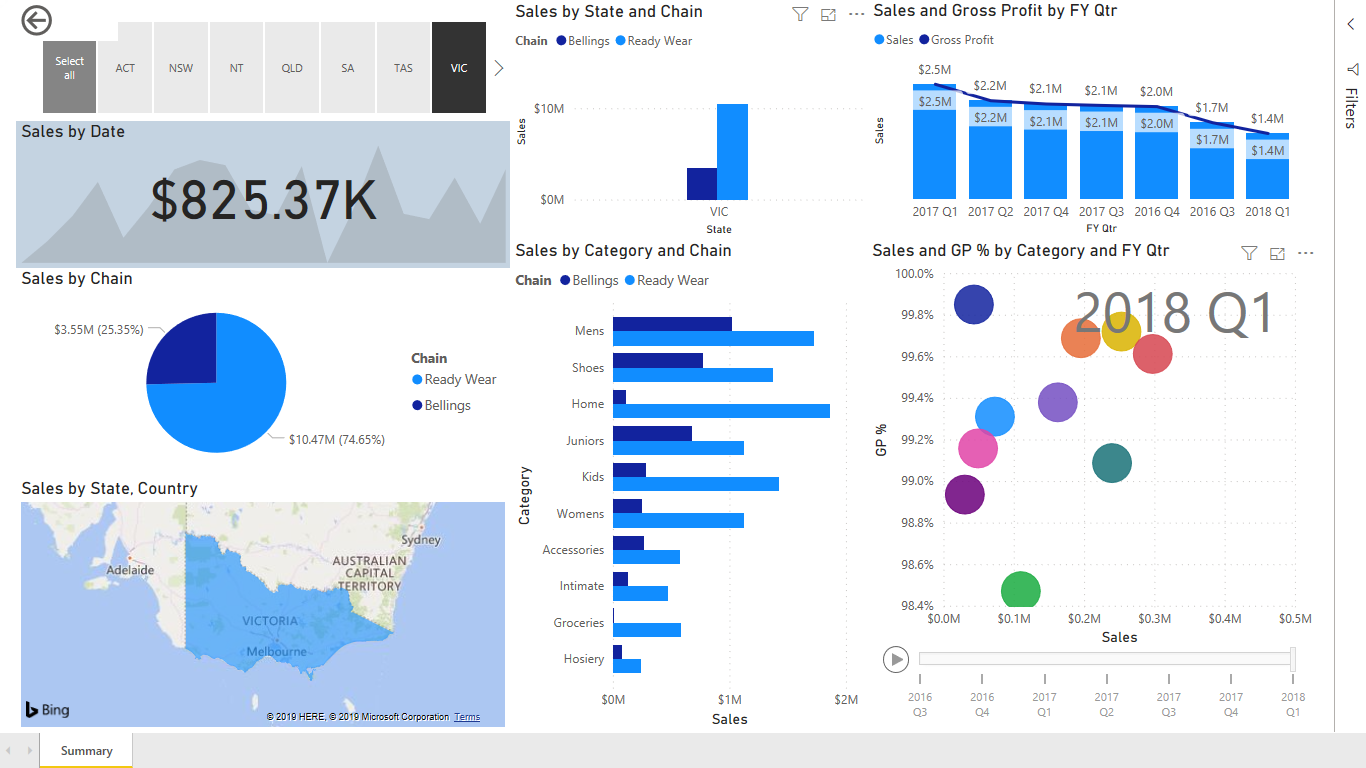

What the dashboard file says about the page in this screenshot:
{"tool":"powerbi","page":{"name":"Summary","canvas":[1280,720],"ordinal":0},"visuals":[{"type":"kpi","fields":{"Indicator":["Sum(Sales.Sales)"],"TrendLine":["Dates.Date"]},"box":[0,118.9,486.3,144.5],"z":0},{"type":"clusteredColumnChart","fields":{"Y":["Sum(Sales.Sales)"],"Category":["Regions.State"],"Series":["Sales.Chain"]},"box":[486.3,1.4,352.6,235],"z":1},{"type":"lineClusteredColumnComboChart","fields":{"Category":["Dates.FY Qtr"],"Y":["Sum(Sales.Sales)"],"Y2":["Sum(Sales.Gross Profit)"]},"box":[838.2,0,441.8,235.4],"z":2},{"type":"pieChart","fields":{"Category":["Sales.Chain"],"Y":["Sum(Sales.Sales)"]},"box":[0,263.4,486.3,206.7],"z":3},{"type":"filledMap","fields":{"Category":["Regions.State, Country"]},"box":[0,470.1,486.3,249.9],"z":4},{"type":"clusteredBarChart","fields":{"Category":["Sales.Category"],"Series":["Sales.Chain"],"Y":["Sum(Sales.Sales)"]},"box":[486.3,236.4,352.6,483.6],"z":5},{"type":"scatterChart","fields":{"X":["Sum(Sales.Sales)"],"Category":["Sales.Category"],"Y":["Sales.GP %"],"Play":["Dates.FY Qtr"]},"box":[837.5,236.4,443.1,483.6],"z":6},{"type":"slicer","fields":{"Values":["Regions.State"]},"box":[0,0,485.8,118.4],"z":7},{"type":"actionButton","box":[0,0,100,40],"z":8}]}

Visuals, with their boxes on the page's 1280x720 design canvas (x1, y1, x2, y2). These are canvas units, not pixel positions in the 1366x768 screenshot, which may show the page scaled, cropped or inside an application window:
kpi - Sum(Sales.Sales) x Dates.Date: region(0, 119, 486, 263)
clusteredColumnChart - Sum(Sales.Sales) x Regions.State: region(486, 1, 839, 236)
lineClusteredColumnComboChart - Dates.FY Qtr x Sum(Sales.Sales): region(838, 0, 1280, 235)
pieChart - Sales.Chain x Sum(Sales.Sales): region(0, 263, 486, 470)
filledMap - Regions.State, Country: region(0, 470, 486, 720)
clusteredBarChart - Sales.Category x Sales.Chain: region(486, 236, 839, 720)
scatterChart - Sum(Sales.Sales) x Sales.Category: region(838, 236, 1281, 720)
slicer - Regions.State: region(0, 0, 486, 118)
actionButton: region(0, 0, 100, 40)
